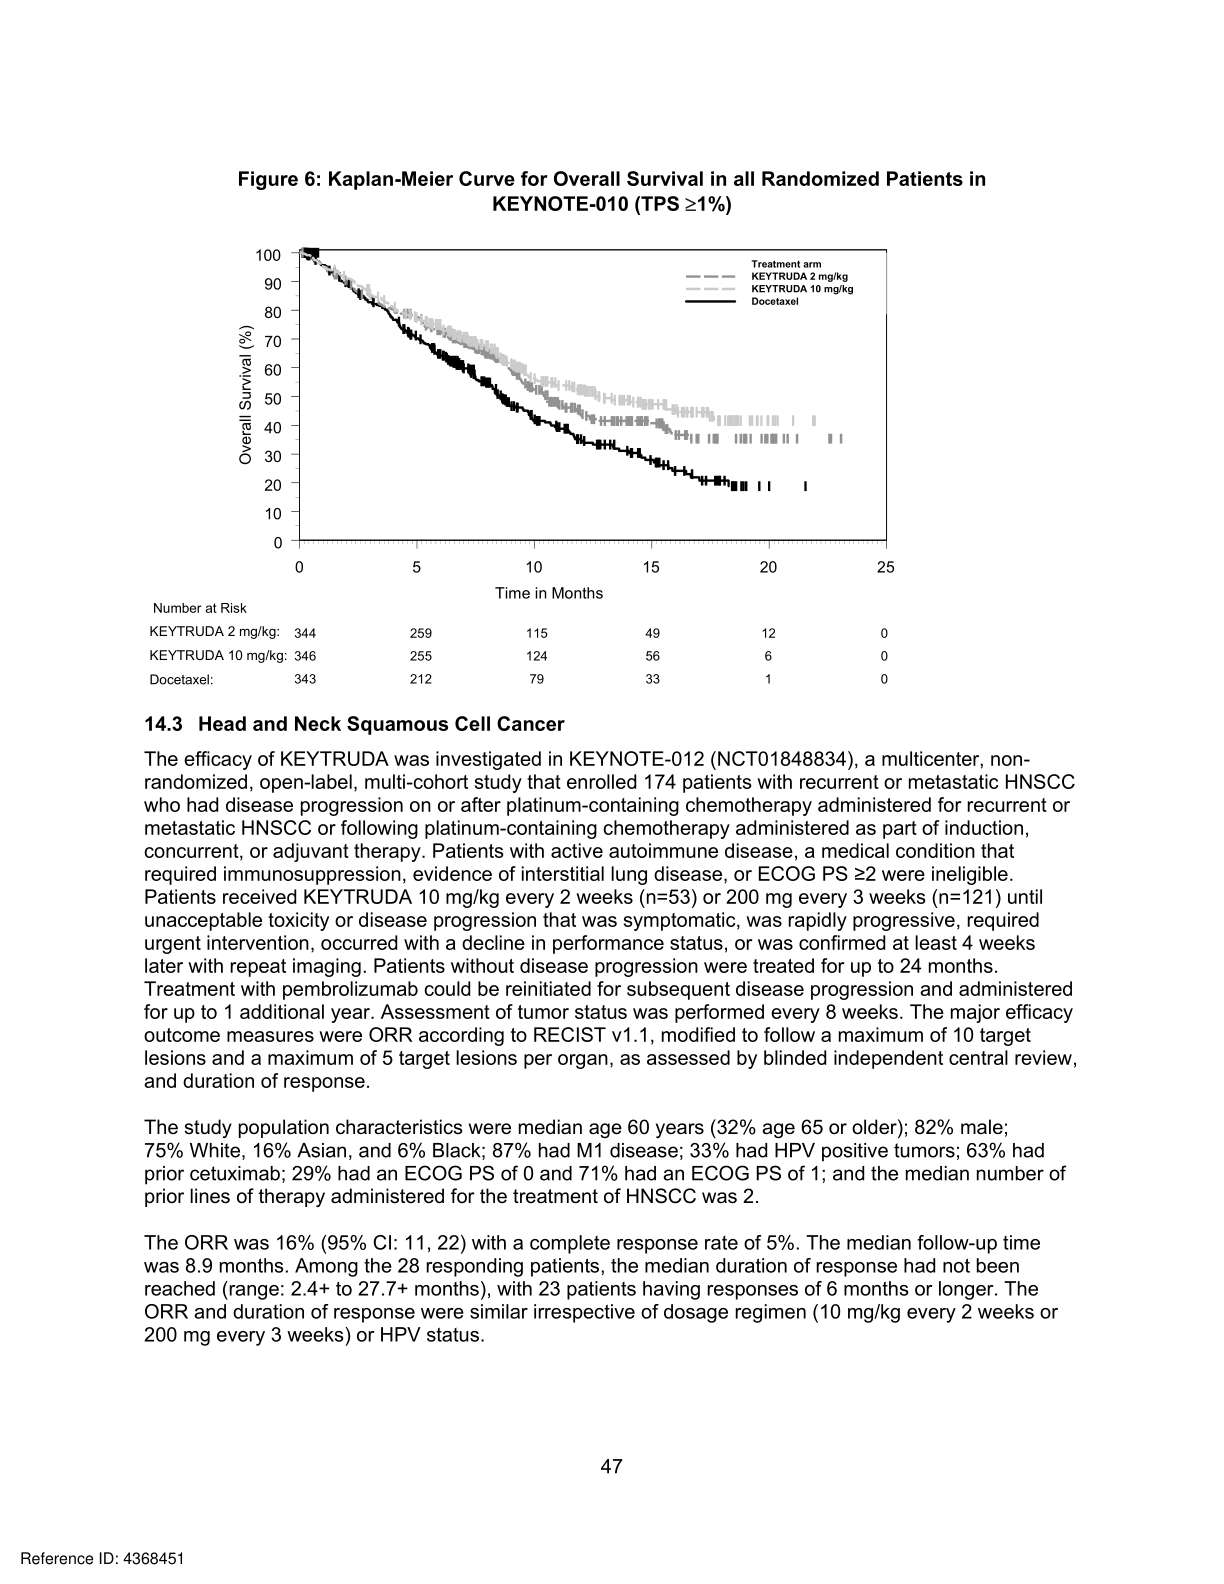nolines: (147, 624, 890, 688)
